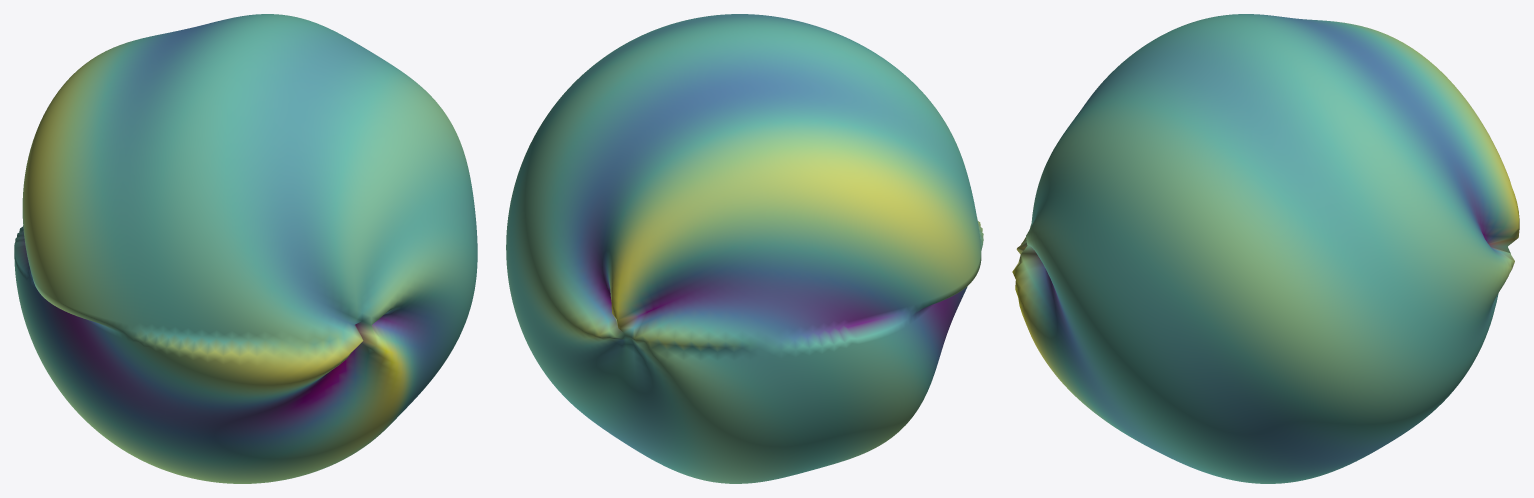
The model's file is sphere_frame_0023.glb.
3 renders of one model, left to right at view 1: azimuth 30°, elevation 25°; view 2: azimuth 150°, elevation 25°; view 3: azimuth 270°, elevation 25°, orthographic.
Parts seen in each view (by area): view 1: world; view 2: world; view 3: world.
Boxes of the visible parts, bbox=[...] form: world: bbox=[14, 14, 477, 483]; world: bbox=[506, 14, 983, 483]; world: bbox=[1012, 14, 1519, 483].
Bounding box in the file's own units: 2.21 × 2.15 × 2.31.
